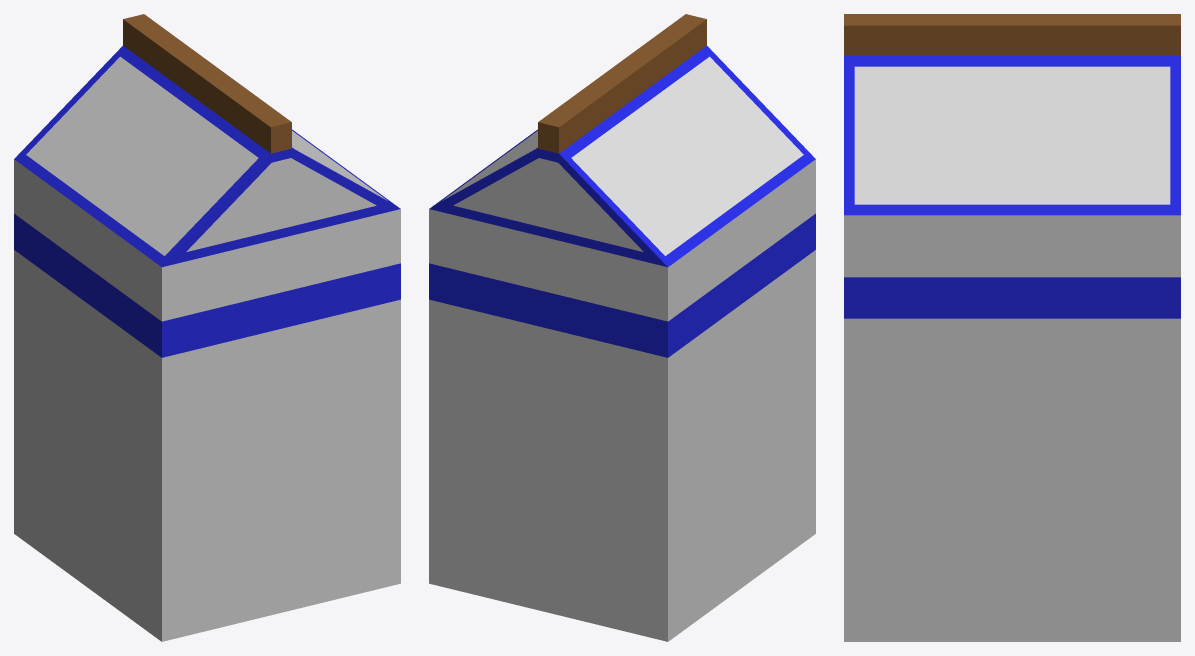
The model's file is MilkBox.fbx.
The picture shows the model from 3 angles, left to right: view 1: azimuth 30°, elevation 25°; view 2: azimuth 150°, elevation 25°; view 3: azimuth 270°, elevation 25°; orthographic projection. The views are drawn at different scales.
Parts seen in each view (by area): view 1: Cube.003; view 2: Cube.003; view 3: Cube.003.
Boxes of the visible parts, x1=… form: Cube.003: x1=14, y1=14, x2=400, y2=641; Cube.003: x1=429, y1=14, x2=815, y2=641; Cube.003: x1=844, y1=14, x2=1180, y2=641.
Bounding box in the file's own units: 1.27 × 2.49 × 1.36.
